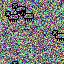sheep: (12, 3, 26, 14), (20, 10, 34, 21), (5, 11, 19, 22), (52, 30, 64, 42)
